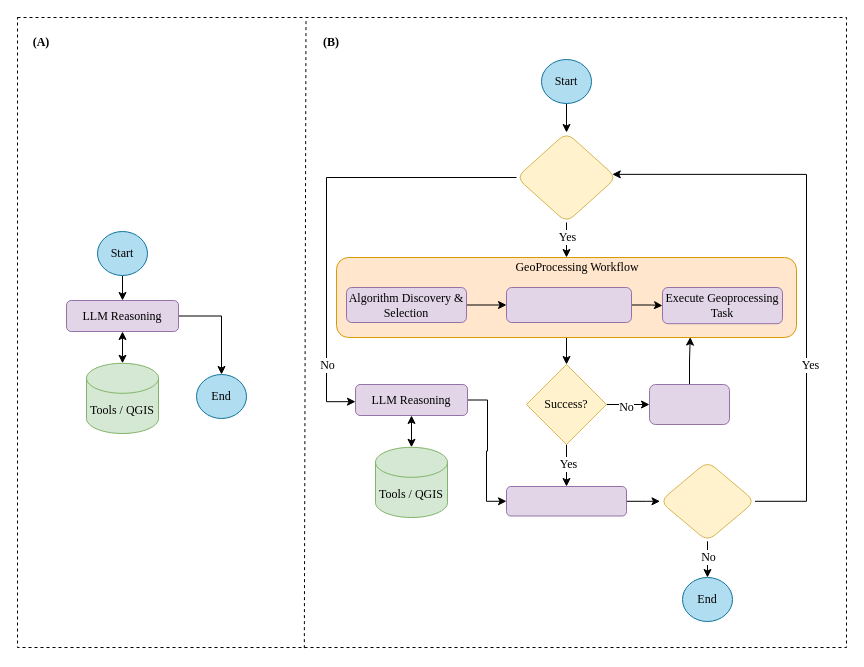
Image size: 864x667. Some labels were removed from this diagram. Each missing label, with the centre of its shape:
Error Analysis & retry: the point at 689,404
Inspect Parameters & Gather Inputs: the point at 569,304
More Tasks?: the point at 707,500
Needs Geoprocessing?: the point at 566,177
Update State / Queue: the point at 566,501
